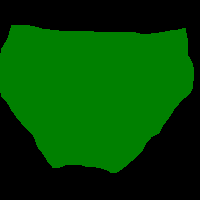mutande: (0, 24, 194, 173)
